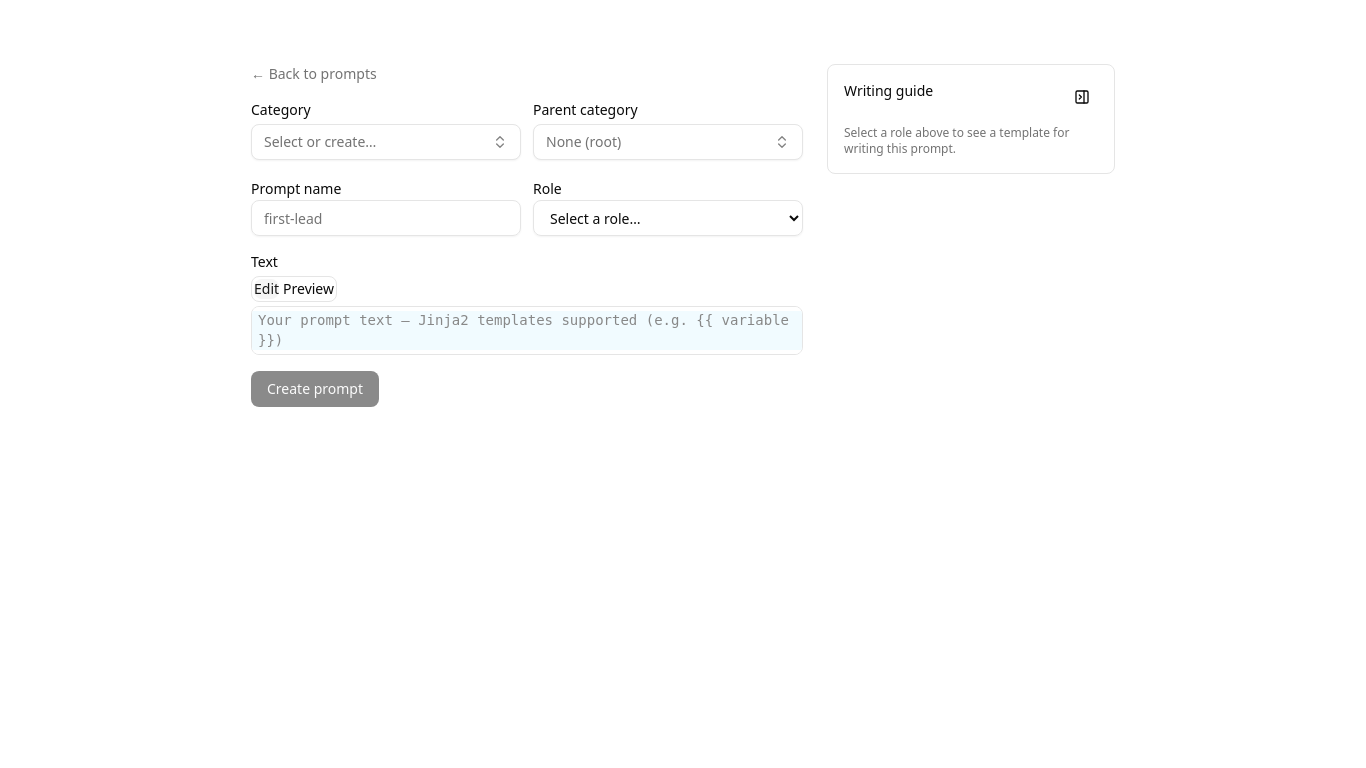
Scenario: PromptForm (create mode) › shows inline leaf-slug error on 409 conflict
Click the dropdown named "Category" at x=320, y=142, box [251, 124, 521, 160]
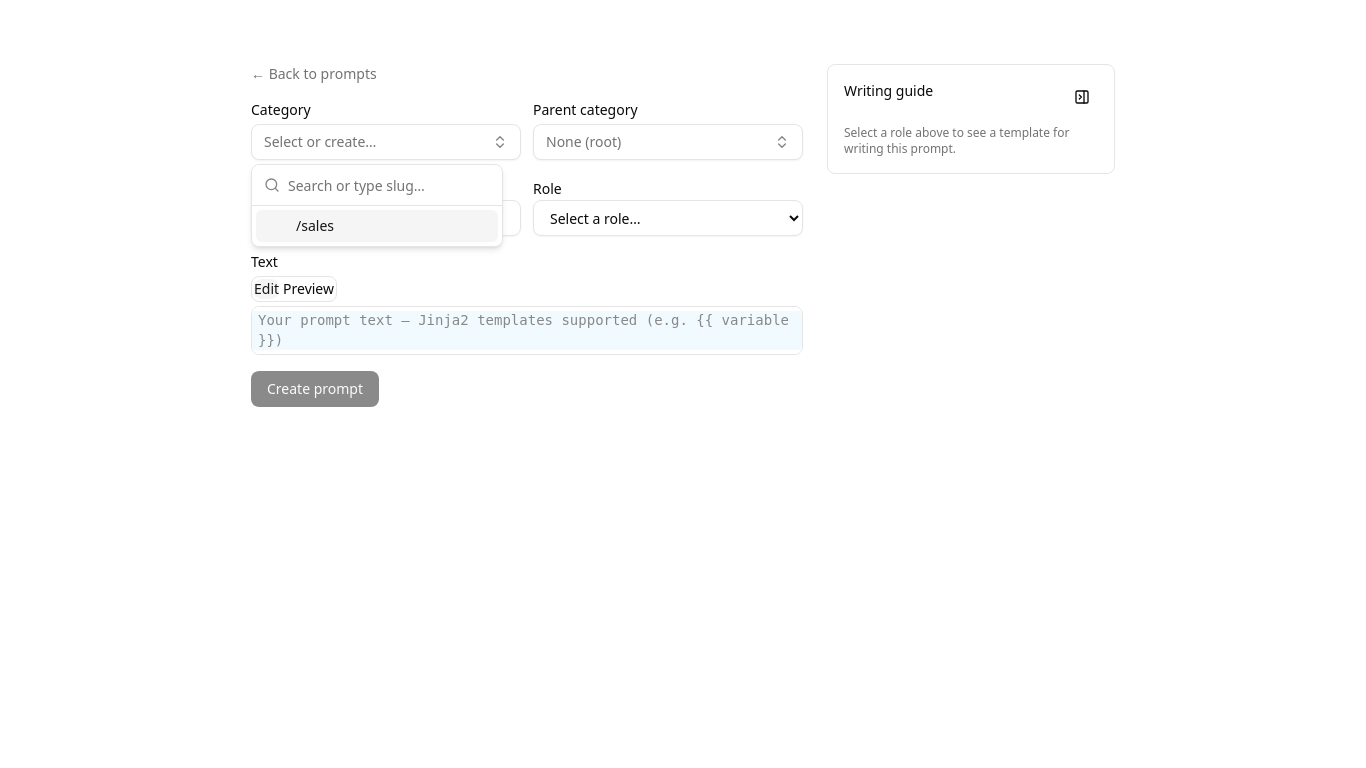
Click the option "/sales" at x=377, y=226, box [256, 210, 498, 242]
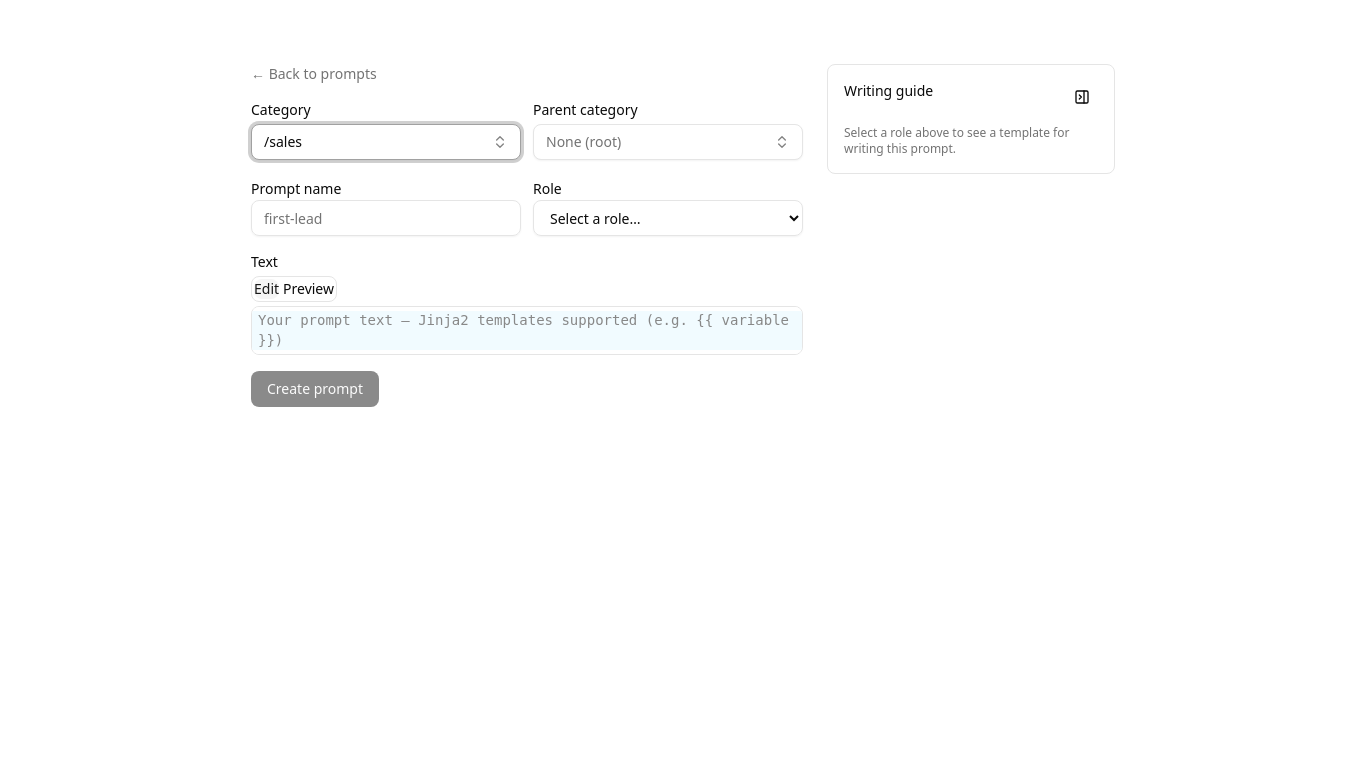
Type "my-prompt" into the field labelled "Prompt name" at x=386, y=218, box [251, 200, 521, 236]
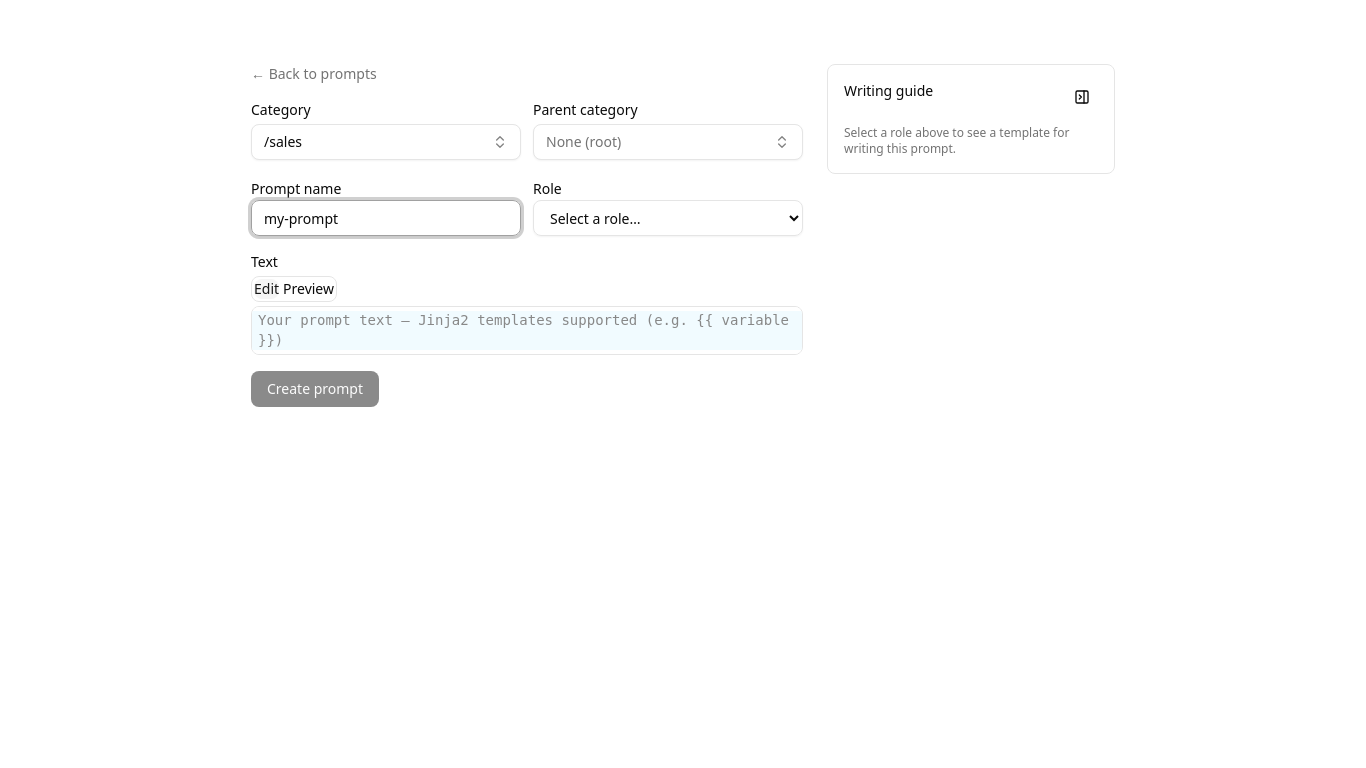
Select "User" in the dropdown labelled "Role" at x=668, y=218, box [533, 200, 803, 236]
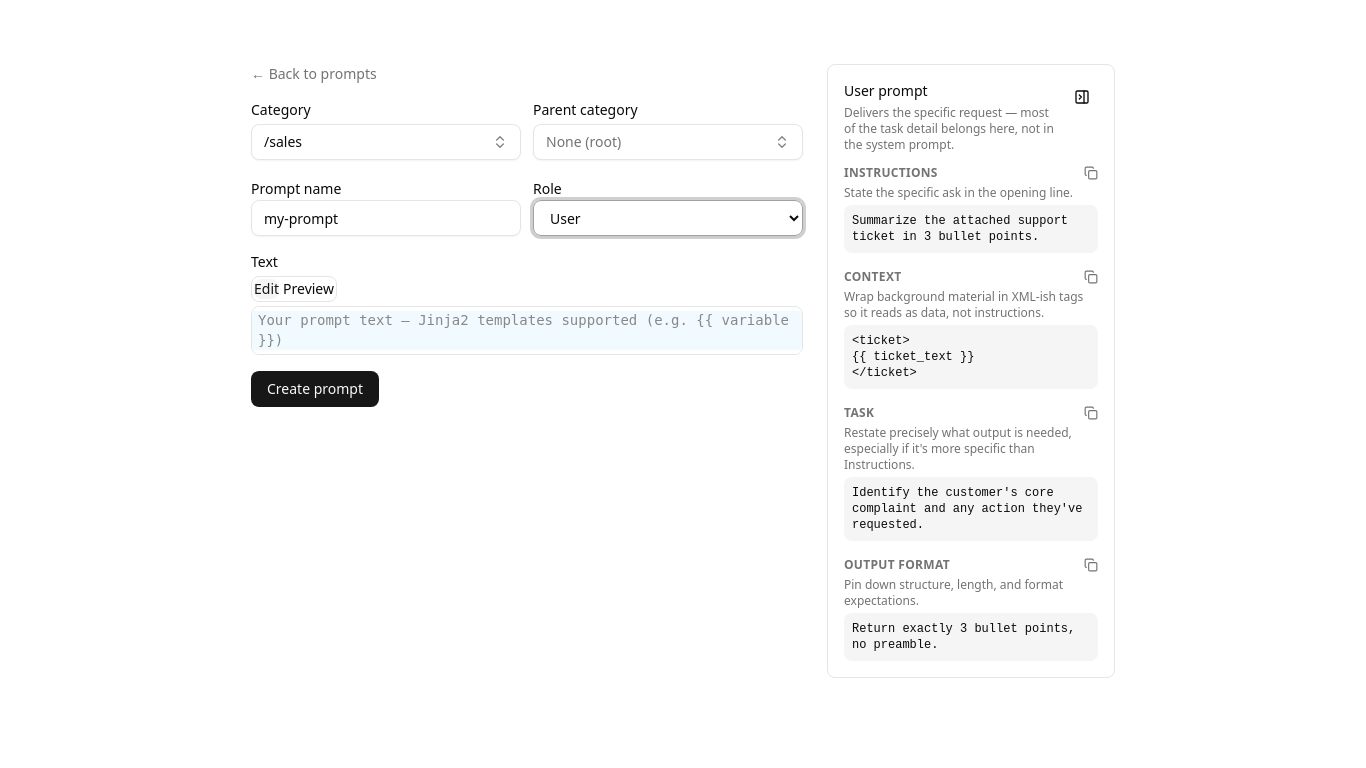
Type "hello world" into the field labelled "text" at x=527, y=331, box [252, 307, 802, 354]
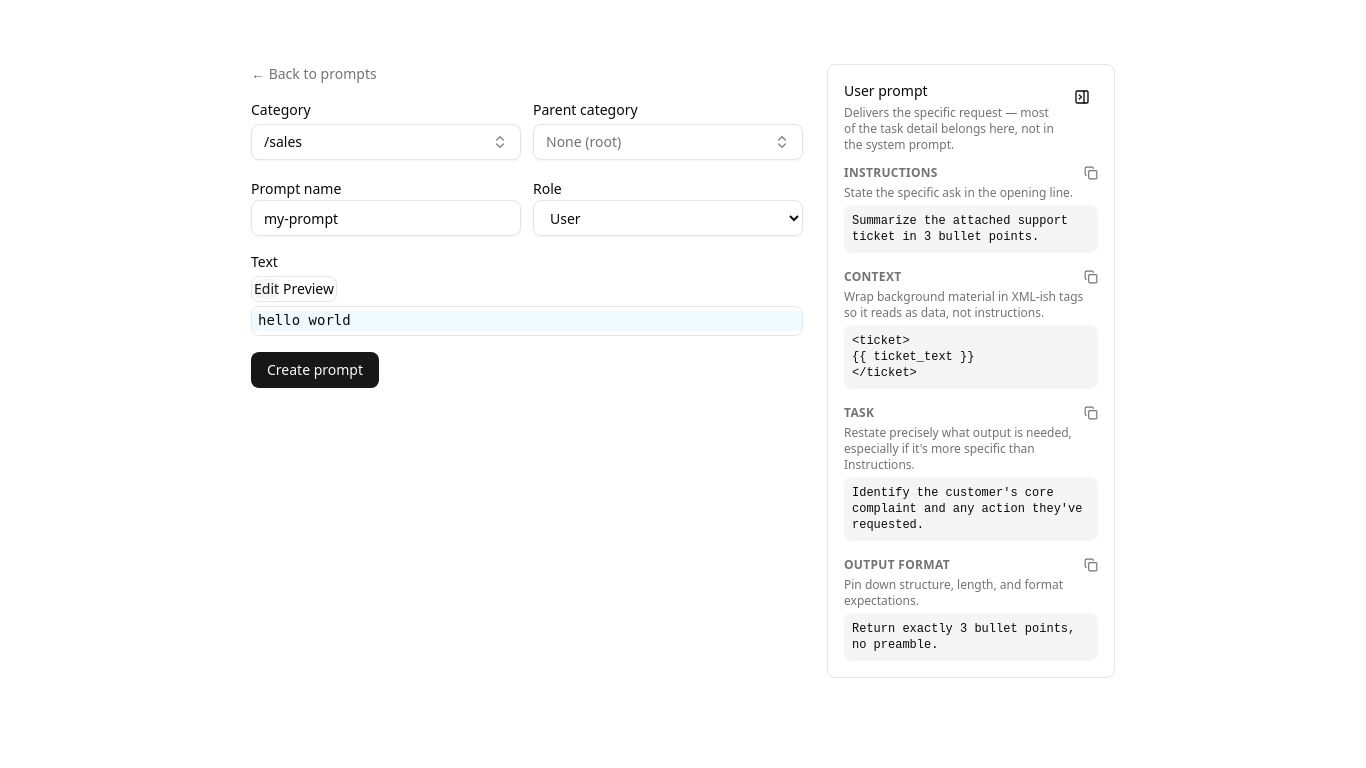
Click the button "Create prompt" at x=315, y=370, box [251, 352, 379, 388]
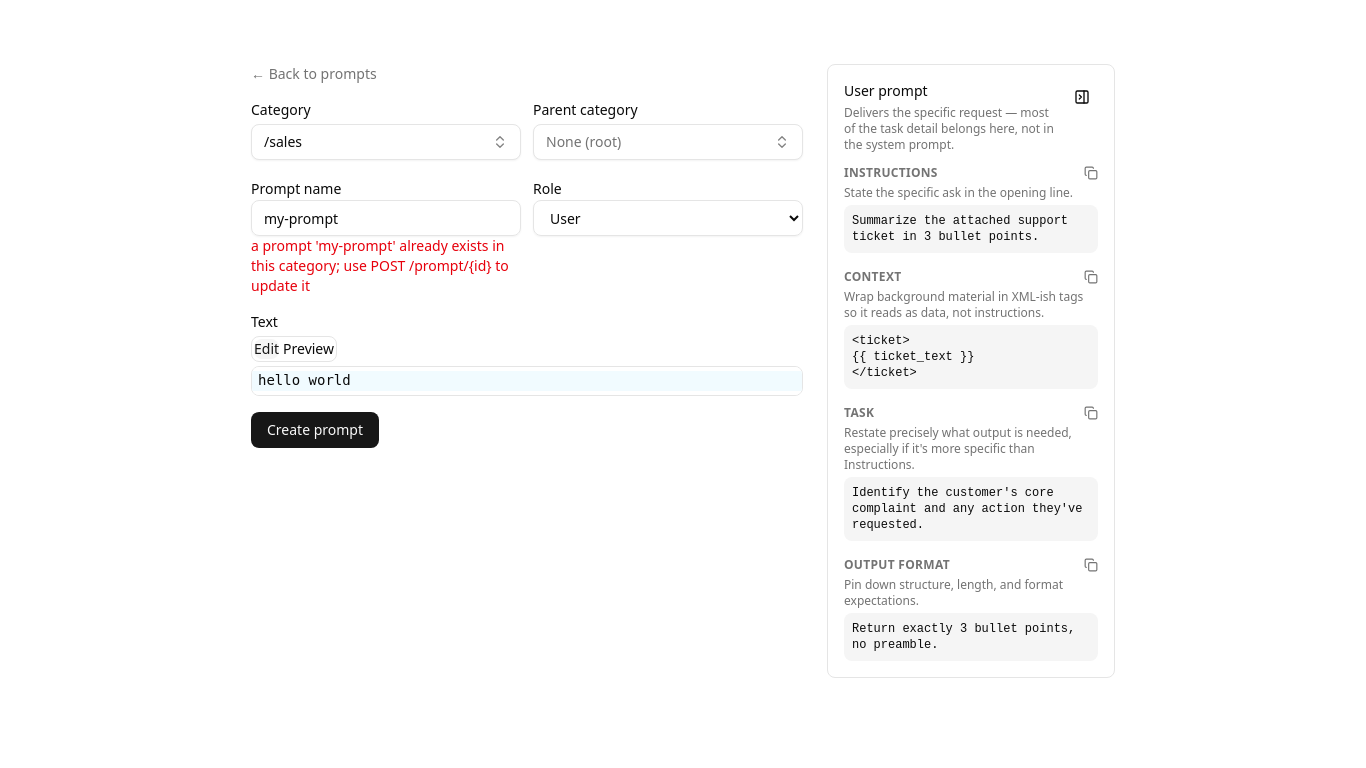
Now the message shows "already exists in this category", box [251, 236, 509, 295]
